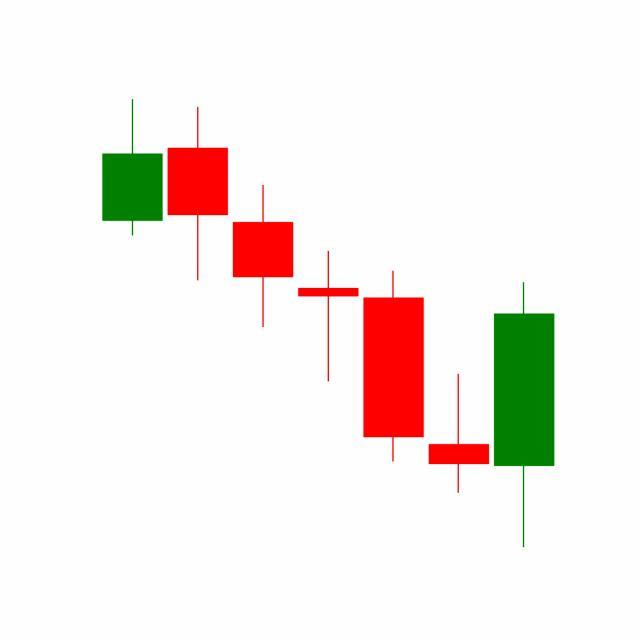Morning Star: (360, 267, 556, 549)
